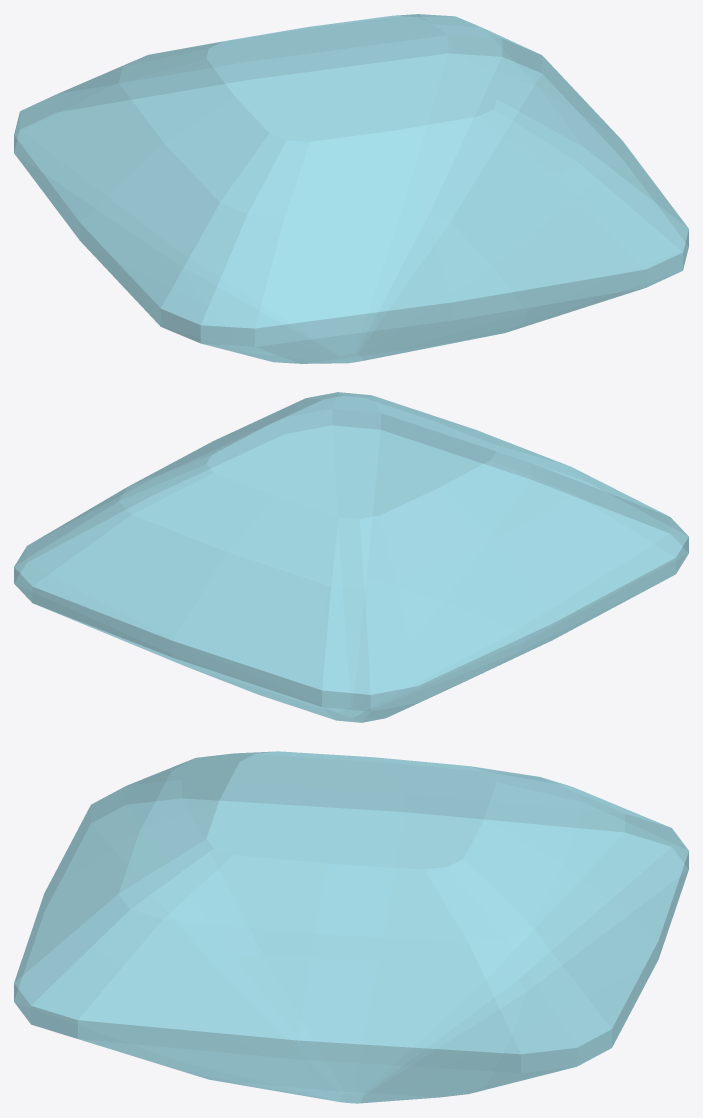
File: stone-aquamarine.glb
3 views of the same model, one above another, from view 1: azimuth 30°, elevation 25°; view 2: azimuth 150°, elevation 25°; view 3: azimuth 270°, elevation 25° (orthographic). The views are drawn at different scales.
Visible parts, largest first — view 1: Sculpture; view 2: Sculpture; view 3: Sculpture.
Part boxes in pixels (<box>): Sculpture: <box>14,14,688,363</box>; Sculpture: <box>14,392,688,722</box>; Sculpture: <box>14,751,688,1103</box>.
Bounding box in the file's own units: 2.19 × 1.07 × 2.27.
